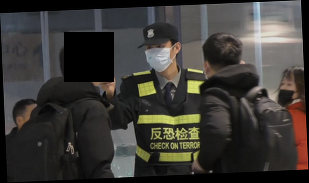with_mask: (143, 43, 174, 74), (277, 79, 297, 106)
